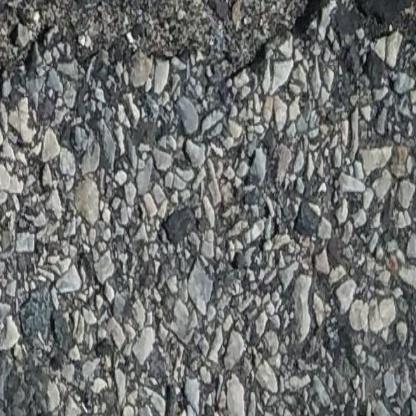Cracks: (0, 0, 416, 139)
